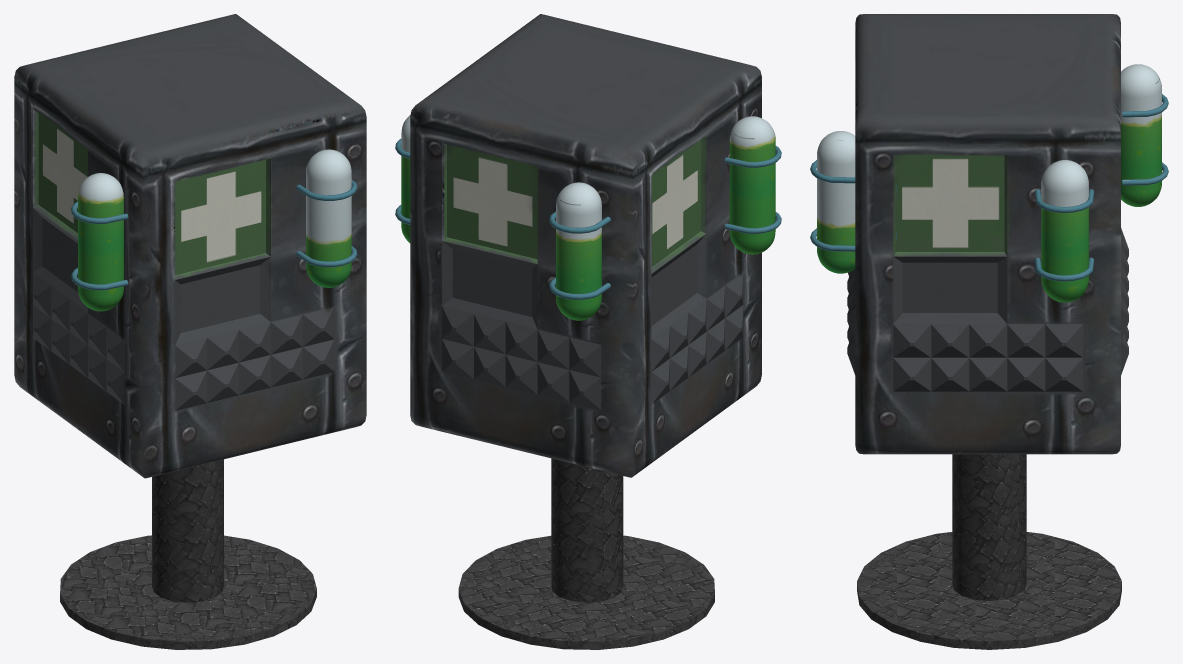
The model's file is botiquin.obj.
3 views of the same model, side by side, from view 1: azimuth 30°, elevation 25°; view 2: azimuth 150°, elevation 25°; view 3: azimuth 270°, elevation 25° (orthographic). The views are drawn at different scales.
Parts seen in each view (by area): view 1: botiquin:Cylinder002 polySurface3, polySurface1 botiquin:Cylinder002, botiquin:Cylinder002 polySurface2, botiquin:Cylinder002 polySurface14, botiquin:Cylinder002 polySurface13; view 2: botiquin:Cylinder002 polySurface3, polySurface1 botiquin:Cylinder002, botiquin:Cylinder002 polySurface2, botiquin:Cylinder002 polySurface14, botiquin:Cylinder002 polySurface15, botiquin:Cylinder002 polySurface12; view 3: botiquin:Cylinder002 polySurface3, polySurface1 botiquin:Cylinder002, botiquin:Cylinder002 polySurface2, botiquin:Cylinder002 polySurface12, botiquin:Cylinder002 polySurface15, botiquin:Cylinder002 polySurface13, botiquin:Cylinder002 polySurface7, botiquin:Cylinder002 polySurface6.
Part boxes in pixels (x1,y1,x2,y2): botiquin:Cylinder002 polySurface3: [14, 14, 366, 478]; polySurface1 botiquin:Cylinder002: [60, 535, 316, 649]; botiquin:Cylinder002 polySurface2: [152, 459, 223, 602]; botiquin:Cylinder002 polySurface14: [78, 173, 123, 311]; botiquin:Cylinder002 polySurface13: [306, 149, 351, 287]; botiquin:Cylinder002 polySurface3: [410, 14, 761, 477]; polySurface1 botiquin:Cylinder002: [458, 535, 714, 649]; botiquin:Cylinder002 polySurface2: [551, 458, 623, 602]; botiquin:Cylinder002 polySurface14: [729, 116, 775, 254]; botiquin:Cylinder002 polySurface15: [556, 182, 601, 320]; botiquin:Cylinder002 polySurface12: [401, 115, 410, 243]; botiquin:Cylinder002 polySurface3: [847, 14, 1128, 454]; polySurface1 botiquin:Cylinder002: [857, 532, 1121, 649]; botiquin:Cylinder002 polySurface2: [952, 454, 1026, 600]; botiquin:Cylinder002 polySurface12: [1041, 160, 1088, 302]; botiquin:Cylinder002 polySurface15: [1121, 64, 1161, 206]; botiquin:Cylinder002 polySurface13: [817, 131, 855, 273]; botiquin:Cylinder002 polySurface7: [1034, 257, 1094, 281]; botiquin:Cylinder002 polySurface6: [1034, 189, 1094, 212].
Size of the model in its own units: 6.48 by 10.45 by 6.42.
Materials: 1 (1 with a texture image).
